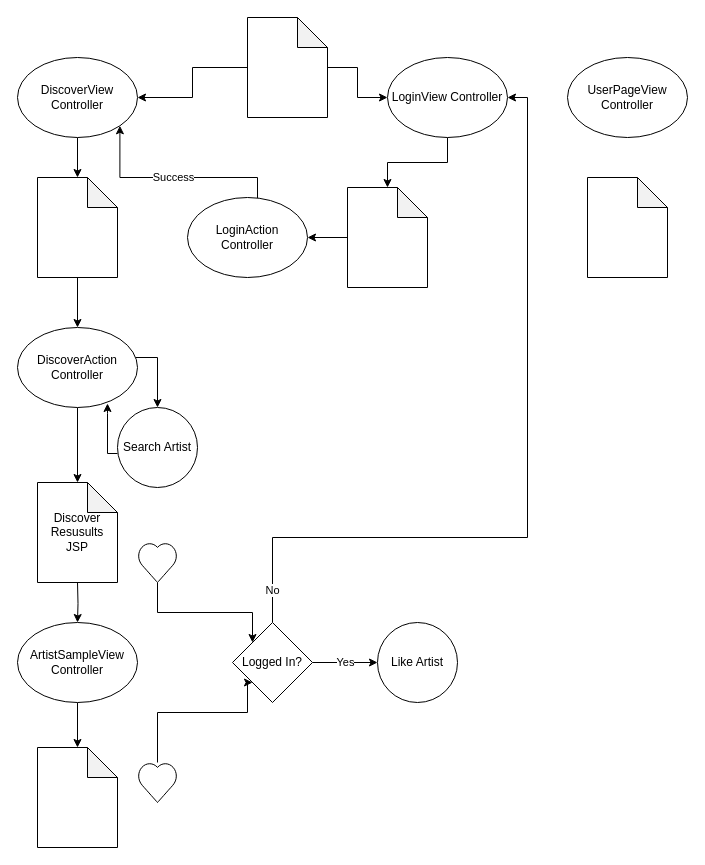
Image size: 705x865. Some labels were removed from this diagram. The shapes that lost their labels are listed below. From the top down, each one's centre as x and y in pixels, then its label:
At point 287,67: "Index JSP".
At point 77,227: "Discover JSP".
At point 387,237: "Login JSP".
At point 627,227: "UserPage JSP".
At point 77,797: "ArtistSample JSP".
